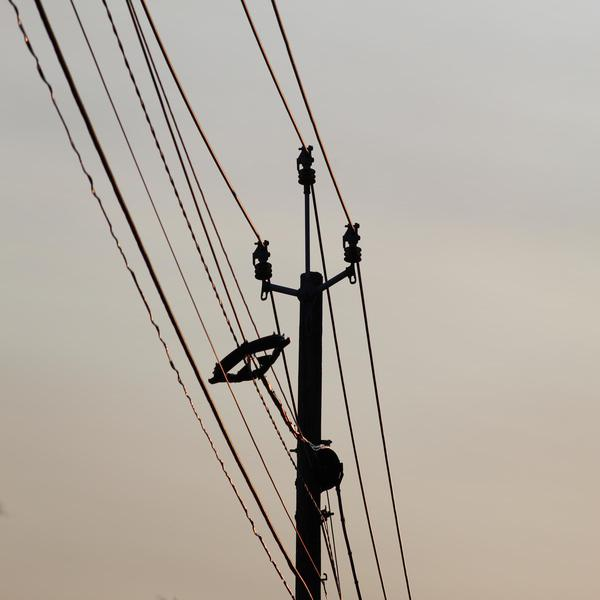utility_pole: (203, 139, 374, 502)
